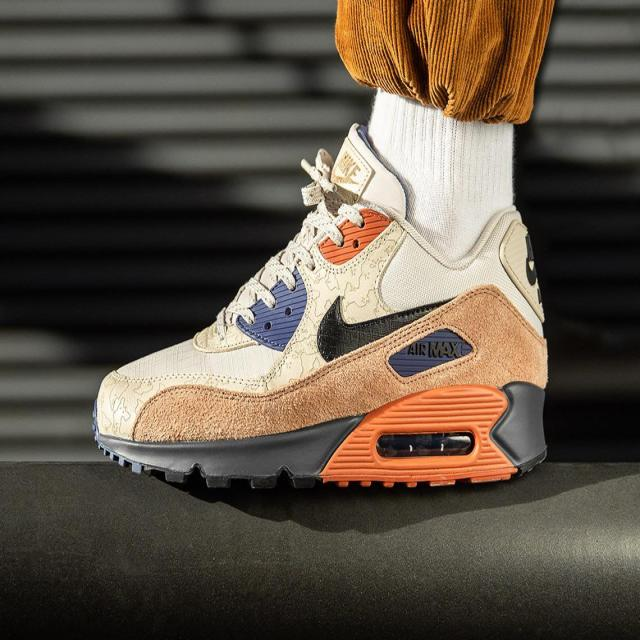shoe: (85, 114, 553, 490)
